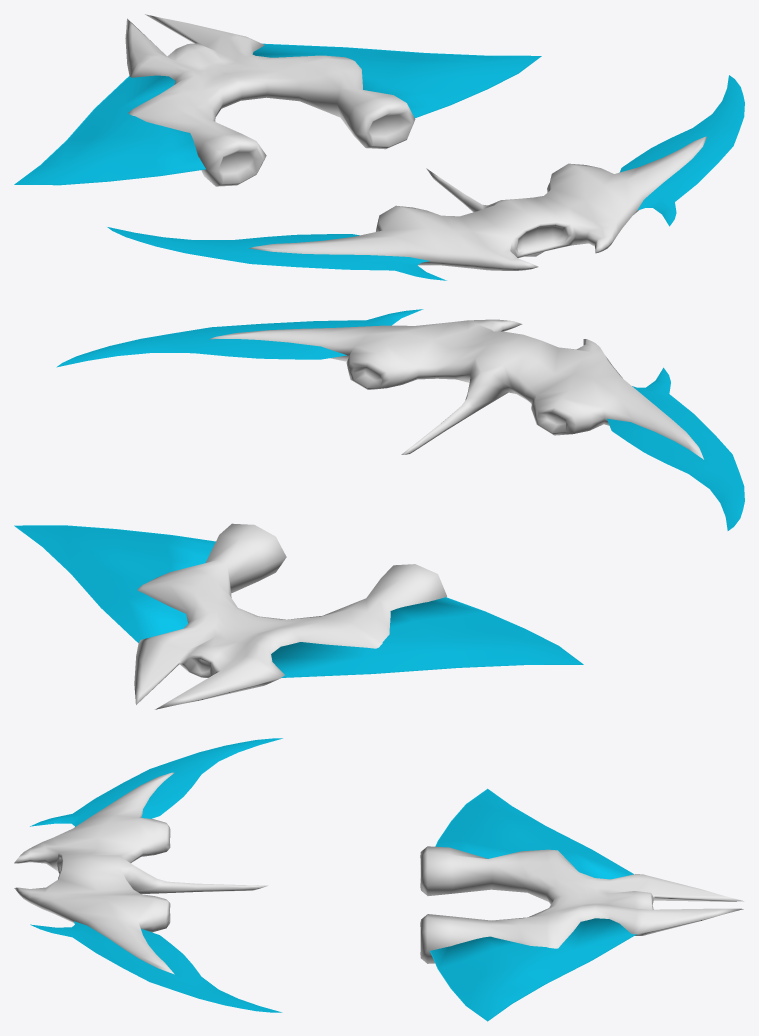
Rendered from rays.fbx.
The picture shows the model from 3 angles, top to bottom: view 1: azimuth 30°, elevation 25°; view 2: azimuth 150°, elevation 25°; view 3: azimuth 270°, elevation 25°; orthographic projection. The views are drawn at different scales.
Parts seen in each view (by area): view 1: ray2 body, ray1 body, ray2 wing, ray1 wing; view 2: ray2 wing, ray1 body, ray2 body, ray1 wing; view 3: ray2 body, ray1 body, ray2 wing, ray1 wing.
Part boxes in pixels (<box>): ray2 body: <box>125,14,415,186</box>; ray1 body: <box>249,136,706,270</box>; ray2 wing: <box>14,43,541,185</box>; ray1 wing: <box>107,75,744,280</box>; ray2 wing: <box>14,525,583,677</box>; ray1 body: <box>209,319,703,459</box>; ray2 body: <box>134,523,446,709</box>; ray1 wing: <box>56,309,744,530</box>; ray2 body: <box>420,846,743,963</box>; ray1 body: <box>14,772,267,974</box>; ray2 wing: <box>430,788,636,1021</box>; ray1 wing: <box>30,738,282,1012</box>.
Size of the model in its own units: 2.22 by 0.2911 by 2.49.
